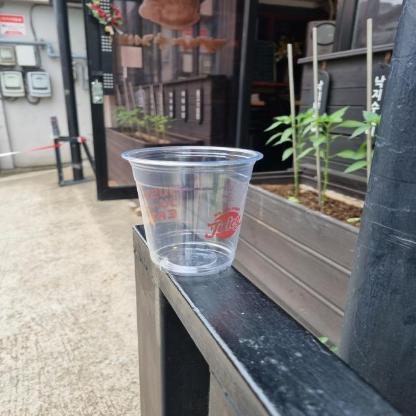Plastic Cup: (116, 143, 270, 280)
